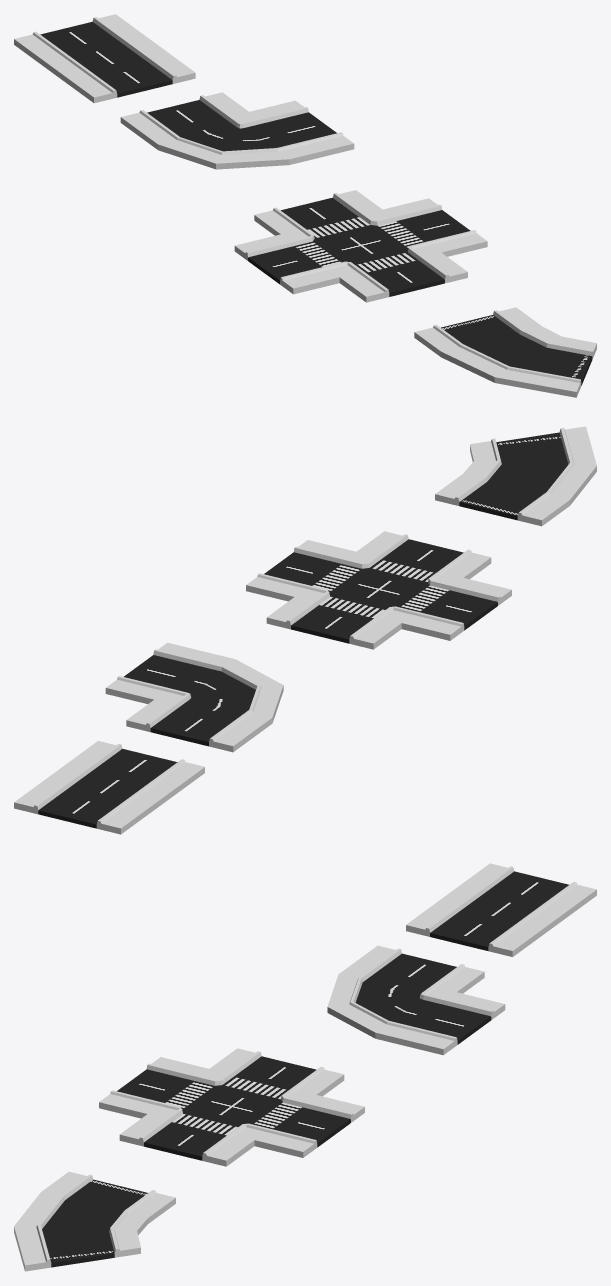
File: road.fbx
3 views of the same model, one above another, from view 1: azimuth 30°, elevation 25°; view 2: azimuth 150°, elevation 25°; view 3: azimuth 330°, elevation 25° (orthographic). The views are drawn at different scales.
Parts seen in each view (by area): view 1: roadTurn90, softTurn, roadForwardwalk, roadForward, roadForward_road, softTurn_selection, roadTurn90_selection, roadForward_2, roadTurn90_selection_1, roadForward_3, roadForward_road_1, roadForward_road_2 (+3 smaller); view 2: roadTurn90, softTurn_selection, roadForwardwalk, softTurn, roadForward_road, roadForward, roadTurn90_selection, roadTurn90_selection_1, roadForward_2, roadForward_3, roadForward_road_2, roadForward_road_1 (+3 smaller); view 3: roadTurn90, softTurn_selection, roadForwardwalk, softTurn, roadForward, roadForward_road, roadTurn90_selection, roadTurn90_selection_1, roadForward_3, roadForward_2, roadForward_road_1, roadForward_road_3 (+3 smaller).
Part boxes in pixels (x1,y1,x2,y2): roadTurn90: [120, 92, 354, 169]; softTurn: [414, 307, 596, 397]; roadForwardwalk: [14, 14, 195, 103]; roadForward: [40, 21, 172, 97]; roadForward_road: [281, 197, 408, 264]; softTurn_selection: [441, 315, 592, 385]; roadTurn90_selection: [147, 100, 239, 151]; roadForward_2: [234, 230, 357, 294]; roadTurn90_selection_1: [225, 112, 336, 151]; roadForward_3: [365, 198, 487, 256]; roadForward_road_1: [355, 252, 444, 296]; roadForward_road_2: [248, 241, 340, 284]; roadTurn90: [105, 642, 283, 752]; softTurn_selection: [459, 432, 568, 520]; roadForwardwalk: [14, 741, 204, 834]; softTurn: [435, 426, 596, 526]; roadForward_road: [291, 568, 429, 643]; roadForward: [38, 748, 177, 828]; roadTurn90_selection: [150, 690, 255, 746]; roadTurn90_selection_1: [124, 655, 255, 697]; roadForward_2: [382, 573, 511, 640]; roadForward_3: [246, 540, 374, 601]; roadForward_road_2: [400, 585, 497, 630]; roadForward_road_1: [370, 539, 463, 581]; roadTurn90: [327, 945, 505, 1055]; softTurn_selection: [42, 1179, 147, 1267]; roadForwardwalk: [406, 863, 596, 956]; softTurn: [14, 1171, 175, 1271]; roadForward: [430, 871, 568, 950]; roadForward_road: [182, 1056, 316, 1126]; roadTurn90_selection: [355, 953, 456, 1005]; roadTurn90_selection_1: [360, 998, 491, 1044]; roadForward_3: [235, 1090, 364, 1157]; roadForward_2: [99, 1057, 226, 1118]; roadForward_road_1: [144, 1114, 237, 1160]; roadForward_road_3: [253, 1102, 350, 1147].
Bounding box in the file's own units: 1312 × 50 × 5881.
4 materials, 4 textured.
